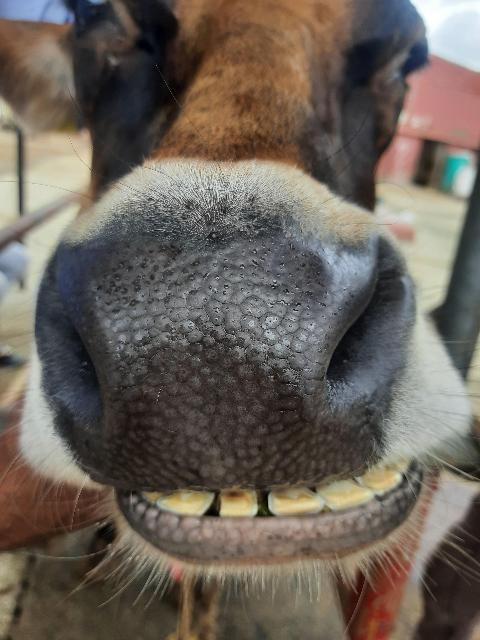Muzzle: (86, 253, 346, 484)
